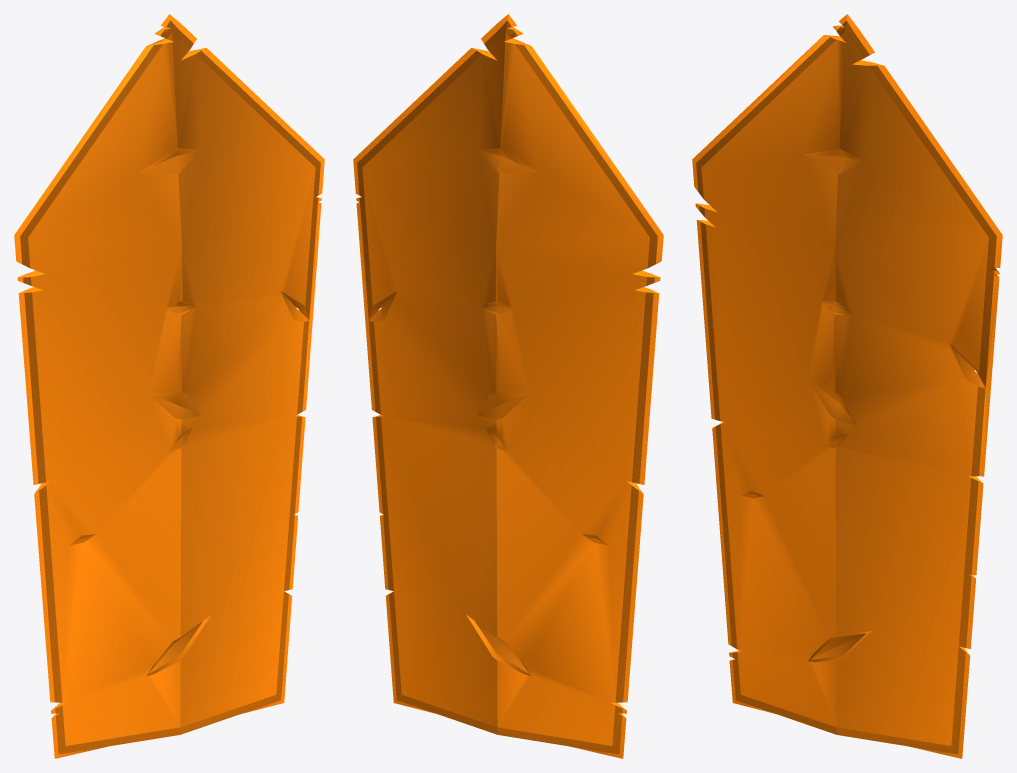
Rendered from bronze_blade_scratched_022.glb.
The picture shows the model from 3 angles, left to right: view 1: azimuth 30°, elevation 25°; view 2: azimuth 150°, elevation 25°; view 3: azimuth 330°, elevation 25°; orthographic projection.
Visible parts, largest first — view 1: bronze_blade_scratched.022; view 2: bronze_blade_scratched.022; view 3: bronze_blade_scratched.022.
Boxes of the visible parts, x1,y1,x2,y2 form: bronze_blade_scratched.022: [14, 14, 324, 758]; bronze_blade_scratched.022: [353, 14, 663, 758]; bronze_blade_scratched.022: [692, 14, 1002, 758].
Bounding box in the file's own units: 5.17 × 11.43 × 0.7262.
1 material, 1 textured.
